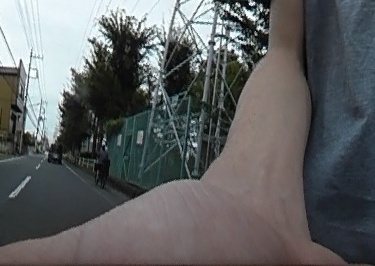person: (93, 143, 109, 181)
